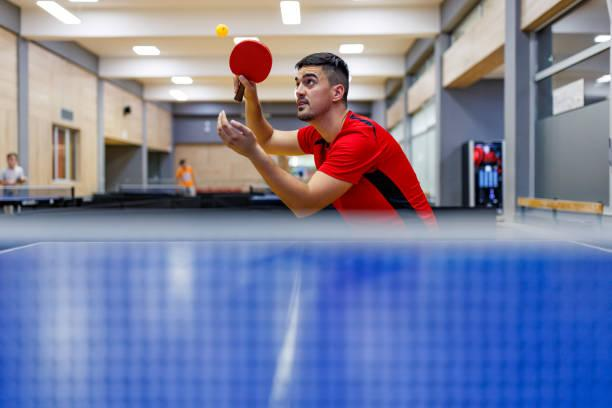ball_pingpong: (216, 24, 229, 38)
